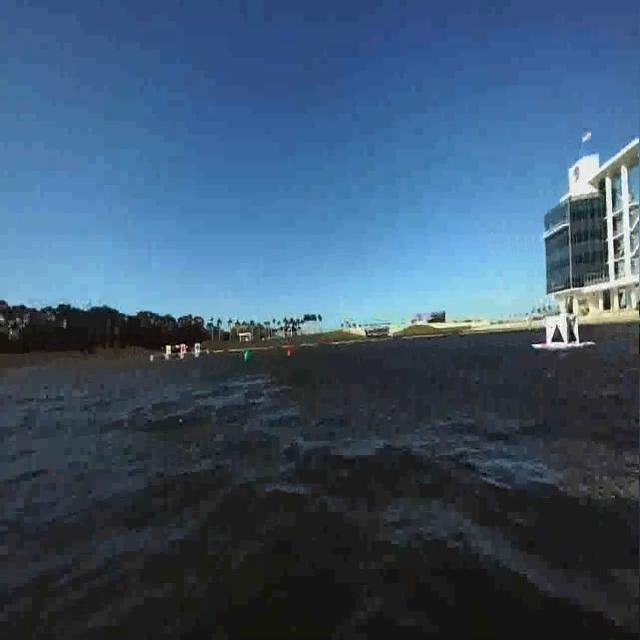green-buoy: (242, 349, 250, 362)
